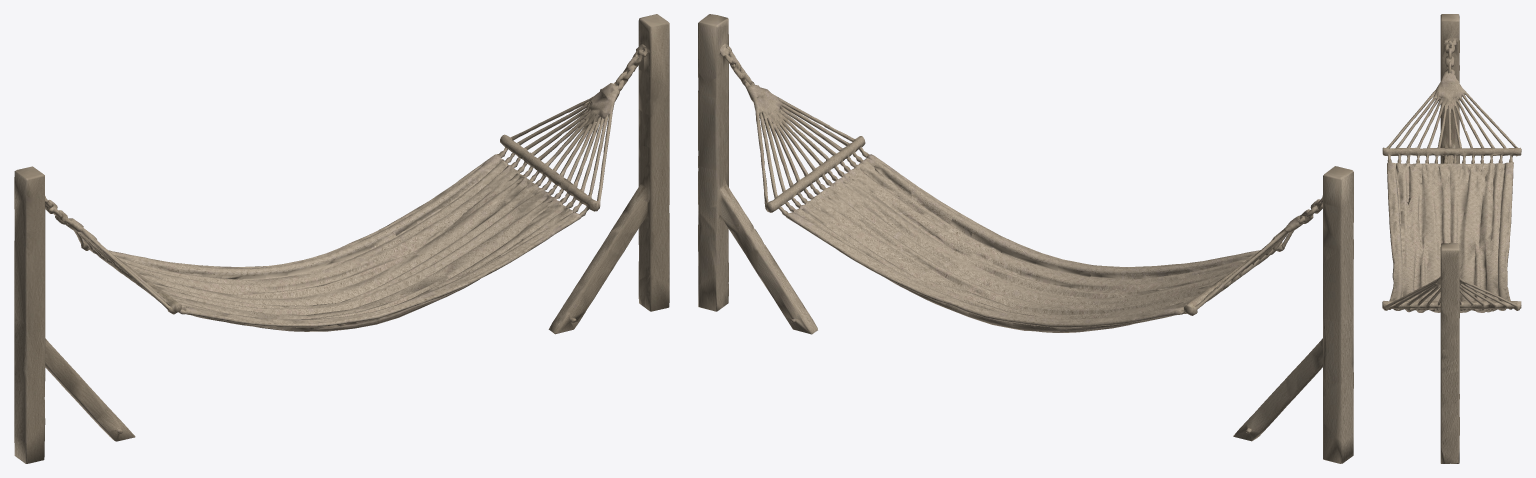
The model's file is hammock.glb.
3 views of the same model, side by side, from view 1: azimuth 30°, elevation 25°; view 2: azimuth 150°, elevation 25°; view 3: azimuth 270°, elevation 25° (orthographic). The views are drawn at different scales.
Parts seen in each view (by area): view 1: mesh_node; view 2: mesh_node; view 3: mesh_node.
Part boxes in pixels (x1,y1,x2,y2): mesh_node: (14,14,669,463); mesh_node: (698,14,1353,463); mesh_node: (1382,14,1521,463).
Bounding box in the file's own units: 1.9 × 0.8122 × 0.4745.
Materials: 1 (1 with a texture image).
